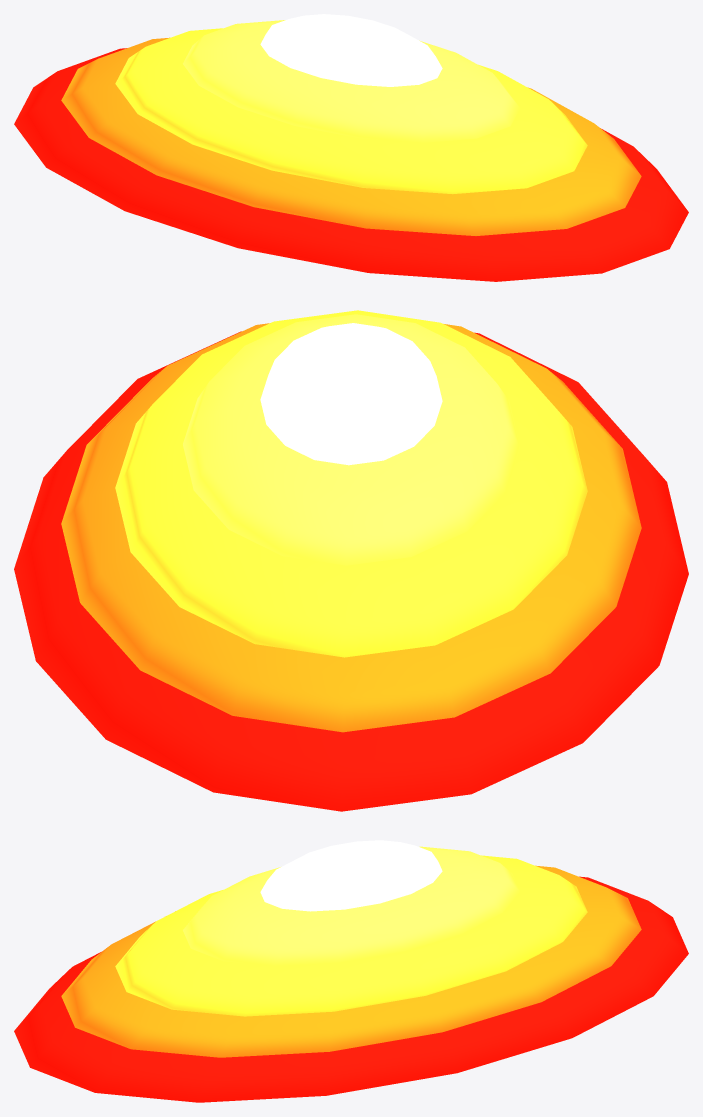
File: newshj-19-f4.glb
3 views of the same model, one above another, from view 1: azimuth 30°, elevation 25°; view 2: azimuth 150°, elevation 25°; view 3: azimuth 270°, elevation 25° (orthographic). The views are drawn at different scales.
Parts seen in each view (by area): view 1: newshj-19-f4; view 2: newshj-19-f4; view 3: newshj-19-f4.
Boxes of the visible parts, x1=… form: newshj-19-f4: x1=14, y1=14, x2=688, y2=281; newshj-19-f4: x1=14, y1=310, x2=688, y2=811; newshj-19-f4: x1=14, y1=840, x2=688, y2=1102.
Size of the model in its own units: 0.8168 by 0.2412 by 1.06.
